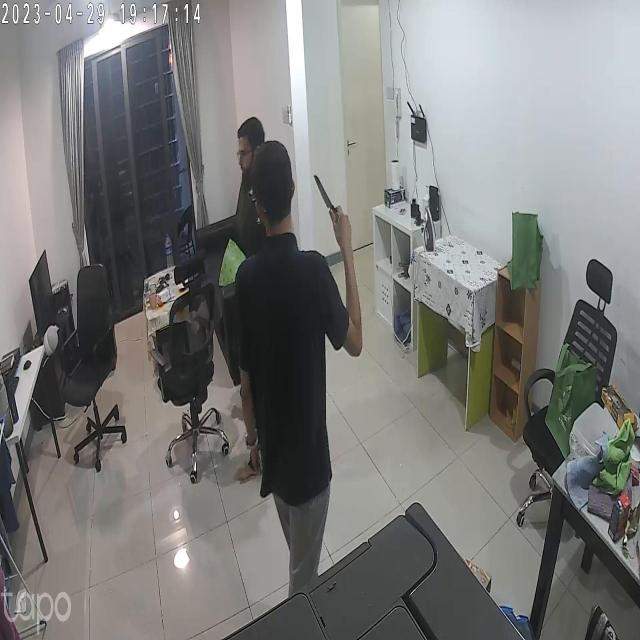Knife: (311, 170, 345, 232)
